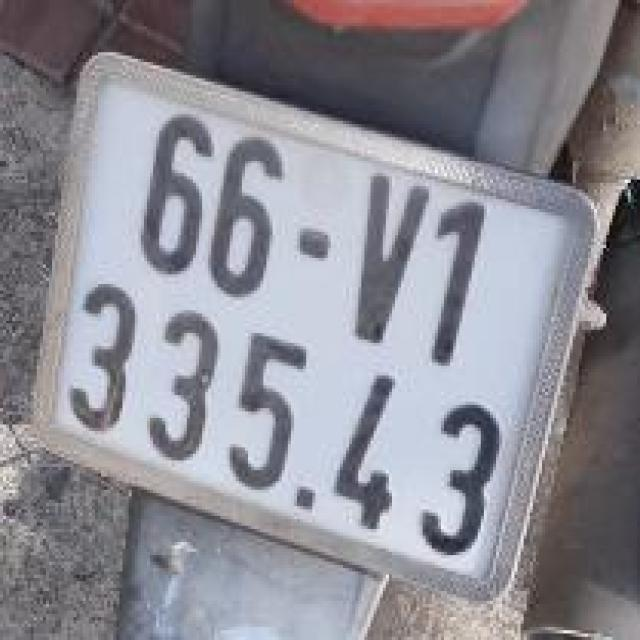1: (399, 189, 522, 390)
3: (392, 384, 529, 591), (41, 257, 170, 463), (112, 290, 242, 489)
4: (308, 350, 431, 553)
5: (203, 311, 327, 518)
6: (175, 108, 309, 325), (112, 96, 239, 291)
V: (330, 137, 455, 360)
